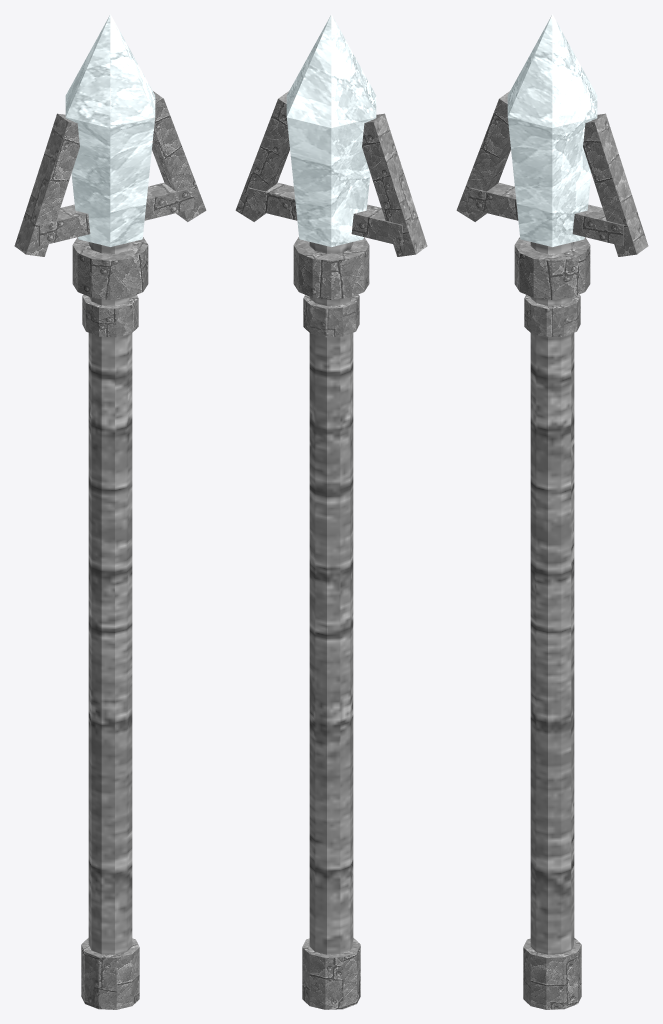
File: staff-frost-crystal.glb
The picture shows the model from 3 angles, left to right: view 1: azimuth 30°, elevation 25°; view 2: azimuth 150°, elevation 25°; view 3: azimuth 330°, elevation 25°; orthographic projection.
Parts seen in each view (by area): view 1: shaft, crystal-focus, left-tine, crown-band, pommel, right-tine, crossbar, neck-band; view 2: shaft, crystal-focus, left-tine, crown-band, pommel, right-tine, crossbar, neck-band; view 3: shaft, crystal-focus, right-tine, crown-band, pommel, left-tine, crossbar, neck-band.
Boxes of the visible parts, left/top/right/bottom form: shaft: left=88, top=242, right=132, bottom=954; crystal-focus: left=65, top=14, right=155, bottom=246; left-tine: left=14, top=113, right=79, bottom=256; crown-band: left=72, top=237, right=148, bottom=299; pommel: left=81, top=938, right=139, bottom=1009; right-tine: left=152, top=91, right=206, bottom=221; crossbar: left=39, top=182, right=193, bottom=246; neck-band: left=82, top=294, right=138, bottom=337; shaft: left=309, top=242, right=353, bottom=954; crystal-focus: left=286, top=14, right=376, bottom=246; left-tine: left=362, top=113, right=427, bottom=256; crown-band: left=293, top=237, right=369, bottom=299; pommel: left=302, top=938, right=360, bottom=1009; right-tine: left=235, top=91, right=289, bottom=221; crossbar: left=248, top=182, right=402, bottom=246; neck-band: left=303, top=294, right=359, bottom=337; shaft: left=530, top=242, right=574, bottom=954; crystal-focus: left=507, top=14, right=597, bottom=246; right-tine: left=583, top=113, right=648, bottom=256; crown-band: left=514, top=237, right=590, bottom=299; pommel: left=523, top=938, right=581, bottom=1009; left-tine: left=456, top=91, right=510, bottom=221; crossbar: left=469, top=182, right=623, bottom=246; neck-band: left=524, top=294, right=580, bottom=337.
Size of the model in its own units: 0.3633 by 1.89 by 0.1559.
Materials: 3 (3 with a texture image).
